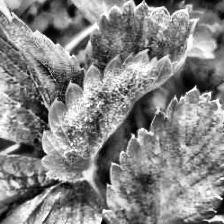Powdery Mildew Leaf: (41, 0, 200, 182)
